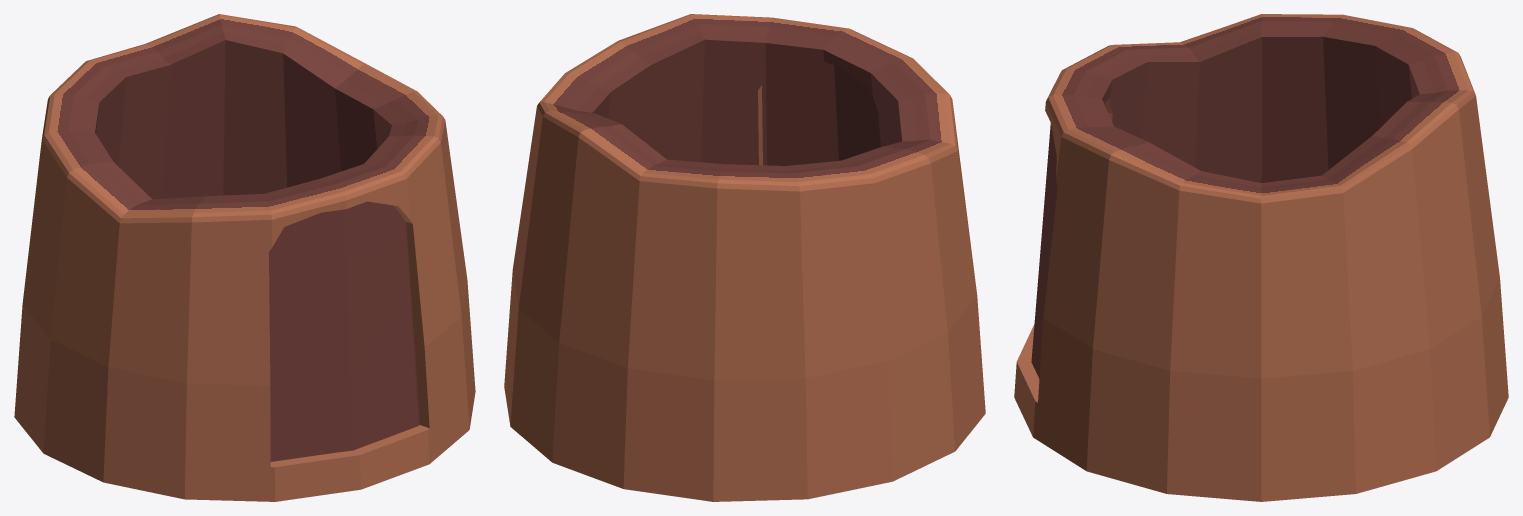
The model's file is Shaft Furnance 01_1.fbx.
The picture shows the model from 3 angles, left to right: view 1: azimuth 30°, elevation 25°; view 2: azimuth 150°, elevation 25°; view 3: azimuth 270°, elevation 25°; orthographic projection. The views are drawn at different scales.
Visible parts, largest first — view 1: Shaft Furnance 01_1; view 2: Shaft Furnance 01_1; view 3: Shaft Furnance 01_1.
Boxes of the visible parts, x1=… form: Shaft Furnance 01_1: x1=14, y1=14, x2=475, y2=501; Shaft Furnance 01_1: x1=504, y1=14, x2=985, y2=501; Shaft Furnance 01_1: x1=1014, y1=14, x2=1508, y2=501.
Size of the model in its own units: 116 by 84.69 by 116.
